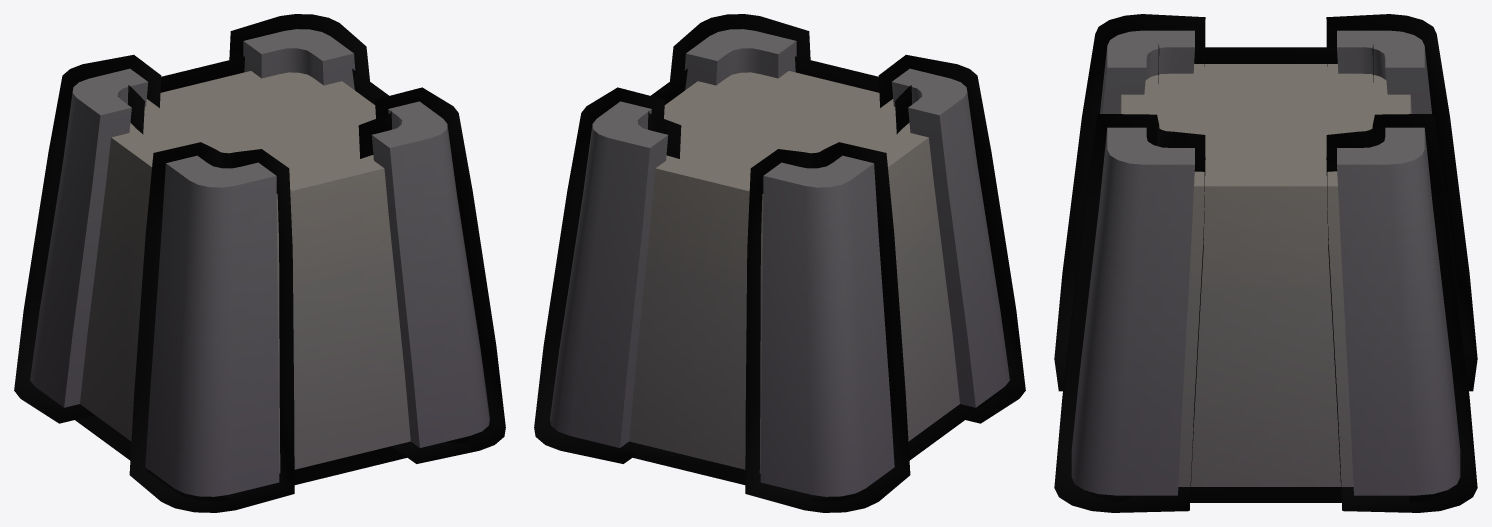
The model's file is mechTower_lvl1_backFace.fbx.
3 views of the same model, side by side, from view 1: azimuth 30°, elevation 25°; view 2: azimuth 150°, elevation 25°; view 3: azimuth 270°, elevation 25° (orthographic). The views are drawn at different scales.
Visible parts, largest first — view 1: canTwr_lvl1, canTwr_lvl1_backFace; view 2: canTwr_lvl1, canTwr_lvl1_backFace; view 3: canTwr_lvl1, canTwr_lvl1_backFace.
Part boxes in pixels (bbox=[...]): canTwr_lvl1: bbox=[30, 29, 489, 496]; canTwr_lvl1_backFace: bbox=[14, 14, 505, 512]; canTwr_lvl1: bbox=[550, 29, 1009, 496]; canTwr_lvl1_backFace: bbox=[534, 14, 1025, 512]; canTwr_lvl1: bbox=[1071, 30, 1460, 495]; canTwr_lvl1_backFace: bbox=[1054, 14, 1477, 512].
Size of the model in its own units: 160 by 141 by 160.
